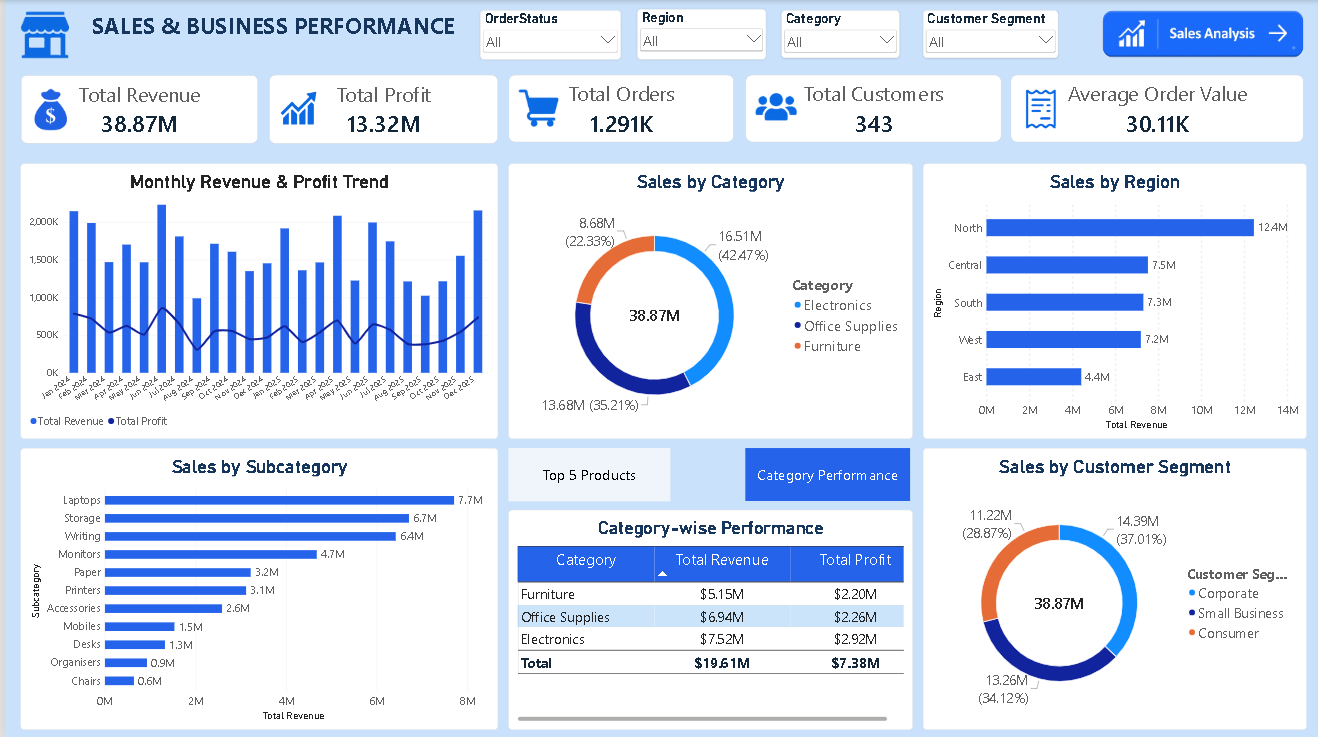

The dashboard page shown, as its layout file describes it:
{"tool":"powerbi","page":{"name":"Sales Overview","canvas":[2560,1440],"ordinal":0},"visuals":[{"type":"textbox","box":[30.1,0,896.9,100.5],"z":0},{"type":"cardVisual","fields":{"Data":["_Measures.Total Revenue"]},"box":[30.1,145.7,464.8,135.7],"z":1000},{"type":"cardVisual","fields":{"Data":["_Measures.Total Orders"]},"box":[982.6,145.2,440.7,132.2],"z":2000},{"type":"cardVisual","fields":{"Data":["_Measures.Average Order Value"]},"box":[1962.6,145.2,573,132.2],"z":3000},{"type":"cardVisual","fields":{"Data":["_Measures.Total Profit"]},"box":[515,145.7,447.2,135.7],"z":4000},{"type":"cardVisual","fields":{"Data":["_Measures.Total Customers"]},"box":[1444.1,145.2,500.4,132.2],"z":5000},{"type":"donutChart","title":"Sales by Category","fields":{"Category":["tbl_Products.Category"],"Y":["_Measures.Total Revenue"]},"box":[982.3,319.1,788.9,537.6],"z":6000},{"type":"clusteredBarChart","title":"Sales by Region","fields":{"Category":["tbl_Regions.Region"],"Y":["_Measures.Total Revenue"]},"box":[1791.3,319.1,748.7,537.6],"z":7000},{"type":"clusteredBarChart","title":"Sales by Subcategory","fields":{"Category":["tbl_Products.Subcategory"],"Y":["_Measures.Total Revenue"]},"box":[30.1,874.3,932.1,550.2],"z":9000},{"type":"donutChart","title":"Sales by Customer Segment","fields":{"Category":["tbl_Customers.CustomerSegment"],"Y":["_Measures.Total Revenue"]},"box":[1791.3,874.3,748.7,550.2],"z":10000},{"type":"slicer","fields":{"Values":["tbl_Orders.OrderStatus"]},"box":[928.1,20.7,274.8,95.9],"z":11000},{"type":"slicer","fields":{"Values":["tbl_Regions.Region"]},"box":[1234.1,18.1,251.5,98.5],"z":12000},{"type":"slicer","fields":{"Values":["tbl_Products.Category"]},"box":[1514.1,20.7,230.7,93.3],"z":13000},{"type":"image","box":[50.2,173.4,77.9,80.4],"z":14000},{"type":"image","box":[31.1,20.7,95.9,95.9],"z":15000},{"type":"image","box":[537.6,170.8,70.3,80.4],"z":16000},{"type":"image","box":[1003.3,171.1,77.9,80.4],"z":17000},{"type":"image","box":[1464.8,168.5,80.4,80.4],"z":18000},{"type":"image","box":[1962.6,173.7,119.3,77.8],"z":19000},{"type":"image","box":[2141.5,18.1,394.1,95.9],"z":20000},{"type":"tableEx","title":"Category-wise Performance","fields":{"Values":["tbl_Products.Category","_Measures.Total Revenue","_Measures.Total Profit"]},"box":[982.3,994.9,788.9,429.6],"z":21000},{"type":"actionButton","title":"inacatve-product","box":[982.3,874.3,316.3,103.7],"z":22000},{"type":"actionButton","title":"Active-catagory","box":[1444.6,874.3,321.6,103],"z":23000},{"type":"slicer","fields":{"Values":["tbl_Customers.CustomerSegment"]},"box":[1791.5,20.7,264.4,93.3],"z":26000},{"type":"lineClusteredColumnComboChart","title":"Monthly Revenue & Profit Trend","fields":{"Category":["Date.Year-Month"],"Y":["_Measures.Total Revenue"],"Y2":["_Measures.Total Profit"]},"box":[30.1,319.1,932.1,537.6],"z":27000}]}

Visuals, with their boxes in screenshot pixels (x1, y1, x2, y2), scaled from the page's 2560x1440 canvas onto the 1318x737 screenshot:
textbox: l=15, t=0, r=477, b=51
cardVisual - _Measures.Total Revenue: l=15, t=75, r=255, b=144
cardVisual - _Measures.Total Orders: l=506, t=74, r=733, b=142
cardVisual - _Measures.Average Order Value: l=1010, t=74, r=1305, b=142
cardVisual - _Measures.Total Profit: l=265, t=75, r=495, b=144
cardVisual - _Measures.Total Customers: l=743, t=74, r=1001, b=142
"Sales by Category" donutChart: l=506, t=163, r=912, b=438
"Sales by Region" clusteredBarChart: l=922, t=163, r=1308, b=438
"Sales by Subcategory" clusteredBarChart: l=15, t=447, r=495, b=729
"Sales by Customer Segment" donutChart: l=922, t=447, r=1308, b=729
slicer - tbl_Orders.OrderStatus: l=478, t=11, r=619, b=60
slicer - tbl_Regions.Region: l=635, t=9, r=765, b=60
slicer - tbl_Products.Category: l=780, t=11, r=898, b=58
image: l=26, t=89, r=66, b=130
image: l=16, t=11, r=65, b=60
image: l=277, t=87, r=313, b=129
image: l=517, t=88, r=557, b=129
image: l=754, t=86, r=796, b=127
image: l=1010, t=89, r=1072, b=129
image: l=1103, t=9, r=1305, b=58
"Category-wise Performance" tableEx: l=506, t=509, r=912, b=729
"inacatve-product" actionButton: l=506, t=447, r=669, b=501
"Active-catagory" actionButton: l=744, t=447, r=909, b=500
slicer - tbl_Customers.CustomerSegment: l=922, t=11, r=1058, b=58
"Monthly Revenue & Profit Trend" lineClusteredColumnComboChart: l=15, t=163, r=495, b=438
